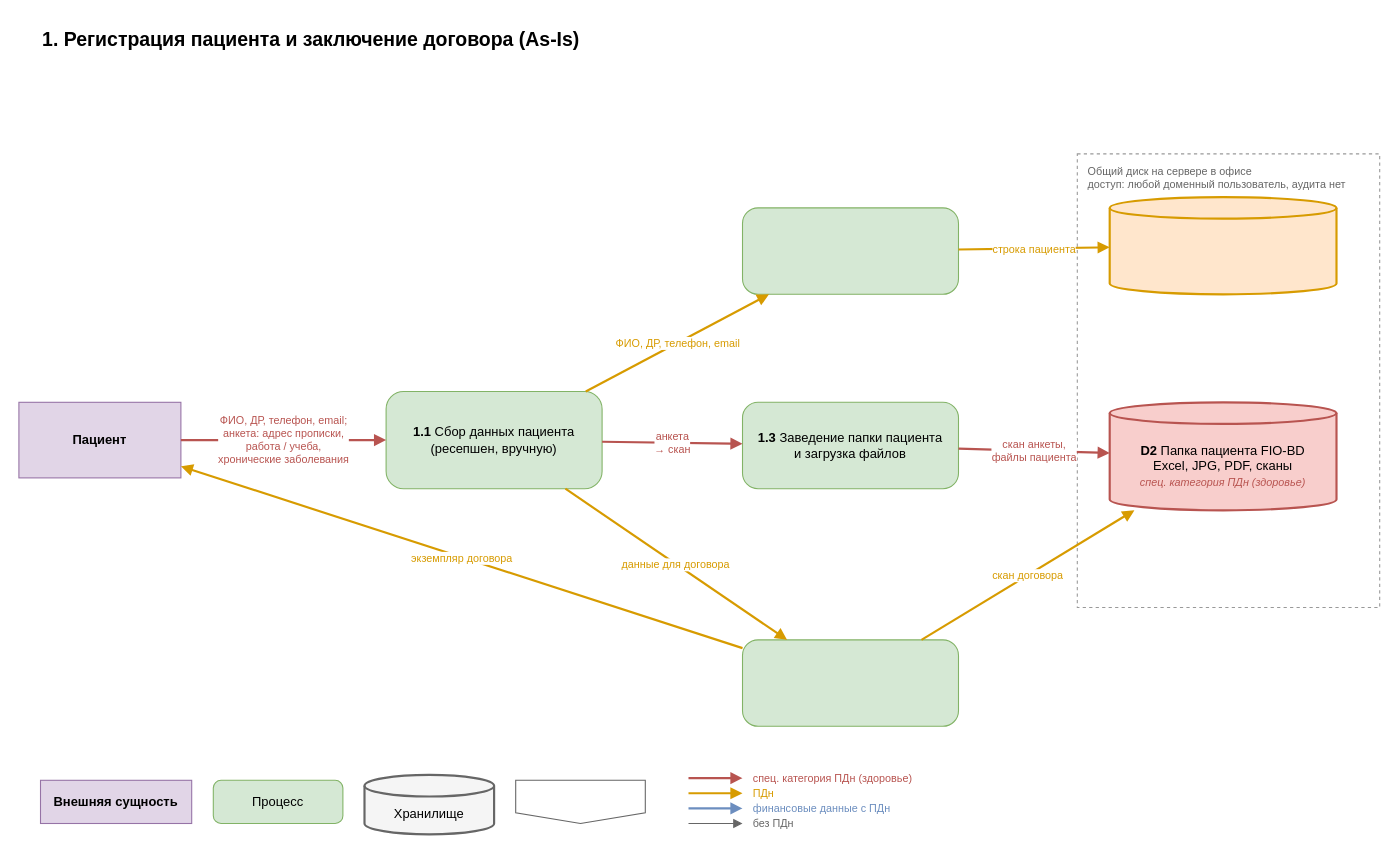
This 1399x853 diagram has some shape labels left out. Here are the shapes that lost their labels. From the top down, the centre of each, then its label:
At point 850,250: "1.2 Внесение в список пациентов".
At point 1222,245: "D1 Patients.xlsx список пациентов ПДн".
At point 850,682: "1.4 Заключение договора".
At point 580,801: "Ссылка на DFD".
